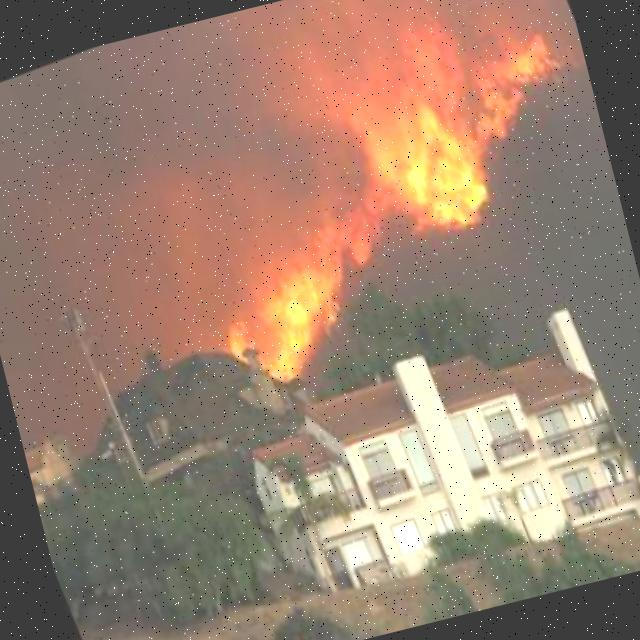fire: (322, 0, 514, 259), (218, 228, 358, 396), (435, 0, 583, 152), (304, 203, 404, 284), (207, 305, 260, 379), (552, 35, 587, 75)
